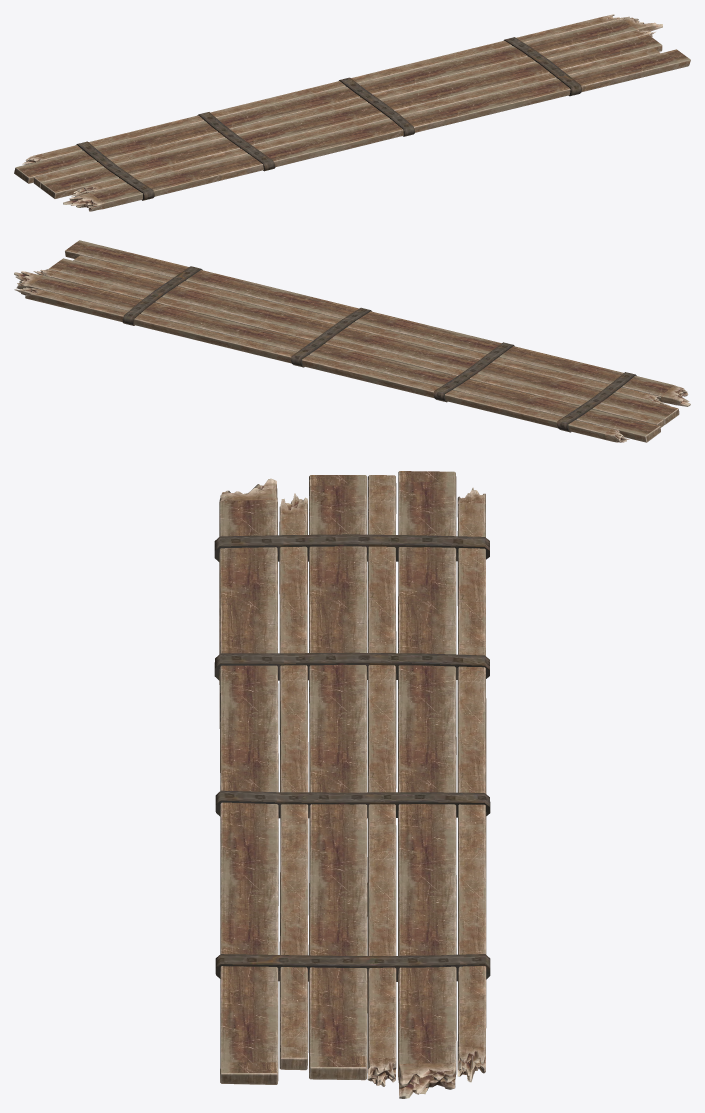
The picture shows the model from 3 angles, top to bottom: view 1: azimuth 30°, elevation 25°; view 2: azimuth 150°, elevation 25°; view 3: azimuth 270°, elevation 25°; orthographic projection. The views are drawn at different scales.
Visible parts, largest first — view 1: SM_Planks_12m_01_LOD0; view 2: SM_Planks_12m_01_LOD0; view 3: SM_Planks_12m_01_LOD0.
Boxes of the visible parts, x1,y1,x2,y2 form: SM_Planks_12m_01_LOD0: (14,14,690,211); SM_Planks_12m_01_LOD0: (14,240,690,442); SM_Planks_12m_01_LOD0: (214,471,490,1098).
Size of the model in its own units: 13.92 by 0.1737 by 2.61.
2 materials, 2 textured.
